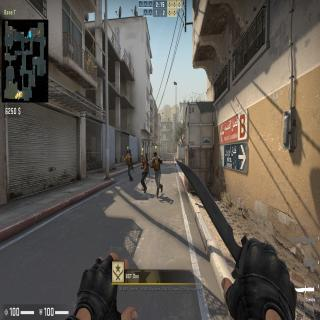T-Head: (140, 153, 145, 160), (154, 152, 158, 159), (126, 151, 129, 155)
